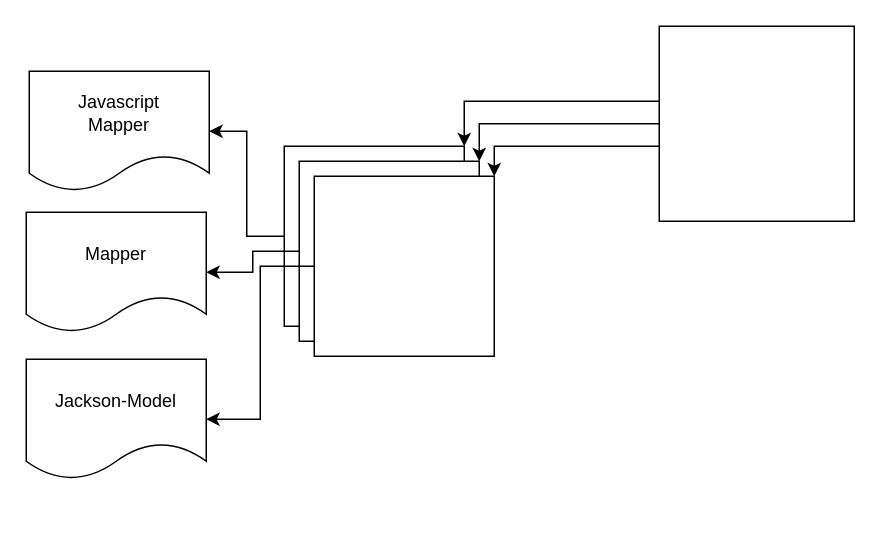
The diagram is 881 pixels wide and 548 high, and some of its shapes have lost their labels. Here are the shapes that lost their labels. From the top down, the centre of each, then its label:
[756,123]: ImporterFactory
[403,265]: Importer
